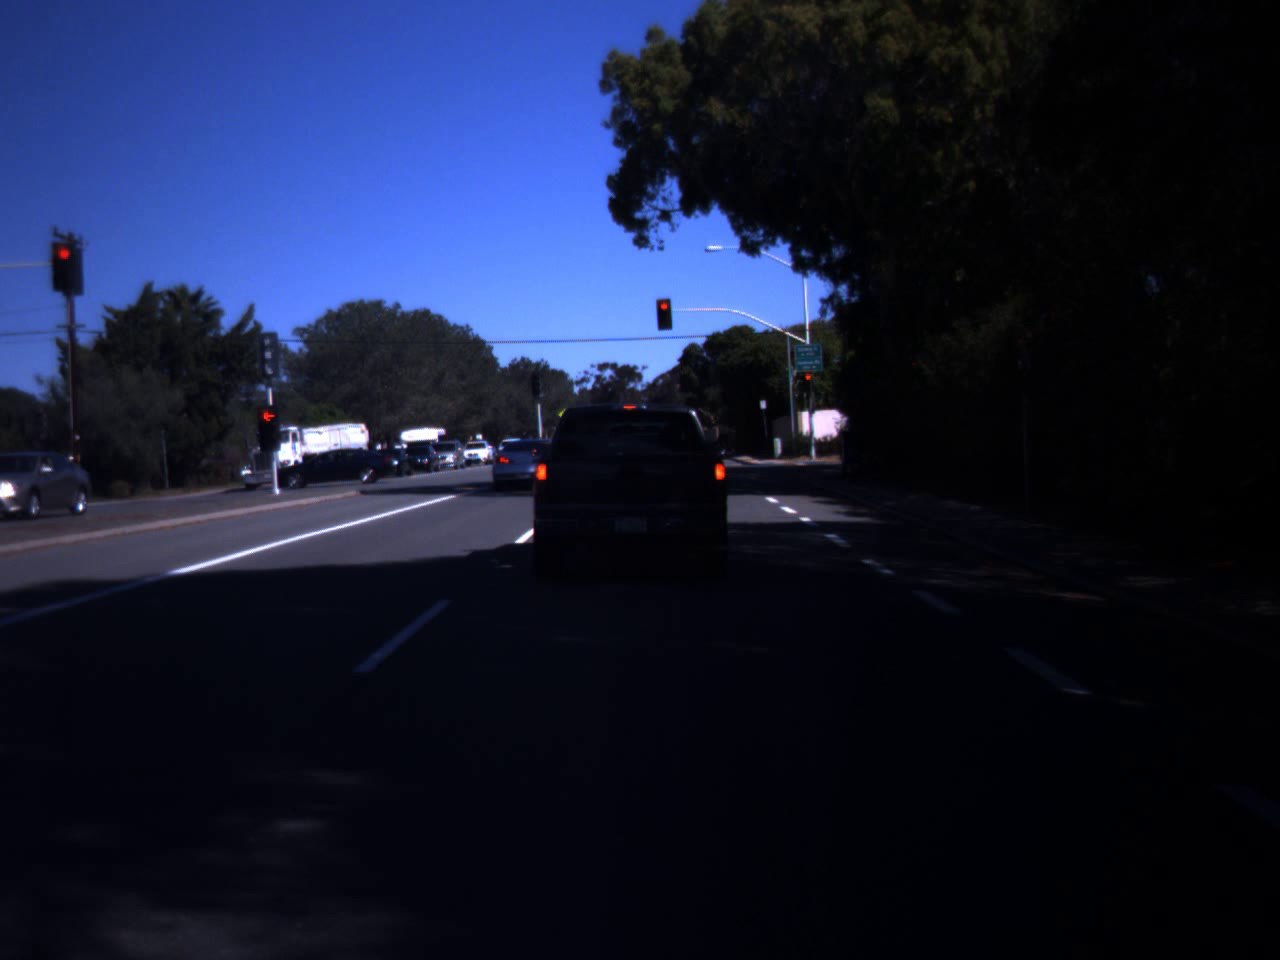stop: (54, 246, 75, 282), (256, 409, 280, 440), (658, 302, 670, 320), (802, 374, 814, 392)
